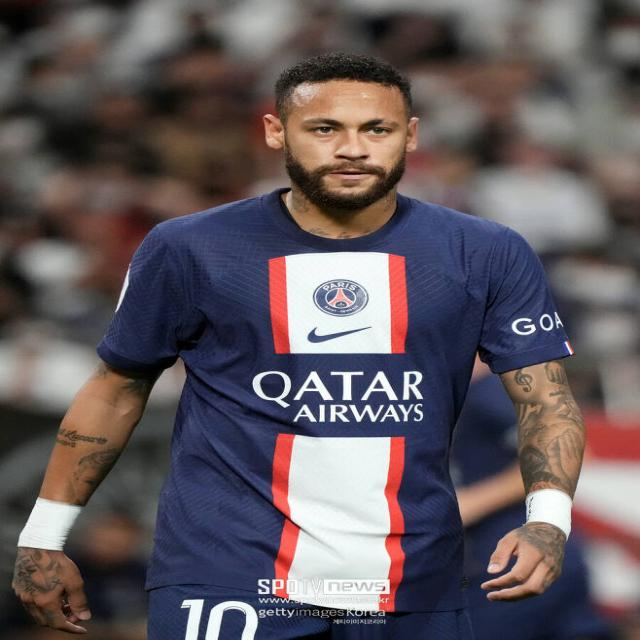neymar: (252, 58, 424, 212)
